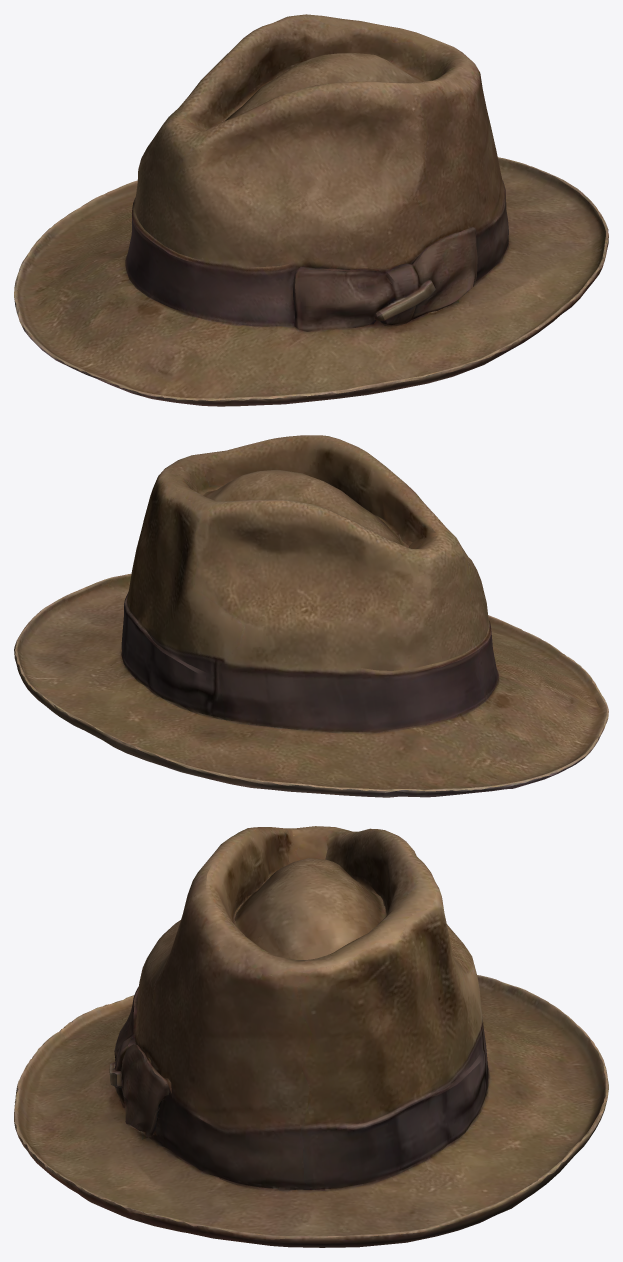
Rendered from chapeu.glb.
3 renders of one model, top to bottom at view 1: azimuth 30°, elevation 25°; view 2: azimuth 150°, elevation 25°; view 3: azimuth 270°, elevation 25°, orthographic. The views are drawn at different scales.
Visible parts, largest first — view 1: Object_4; view 2: Object_4; view 3: Object_4.
Part boxes in pixels (x1,y1,x2,y2): Object_4: (14,14,608,406); Object_4: (14,435,608,797); Object_4: (14,826,608,1247).
Bounding box in the file's own units: 1.09 × 0.4679 × 0.8934.
1 material, 1 textured.
